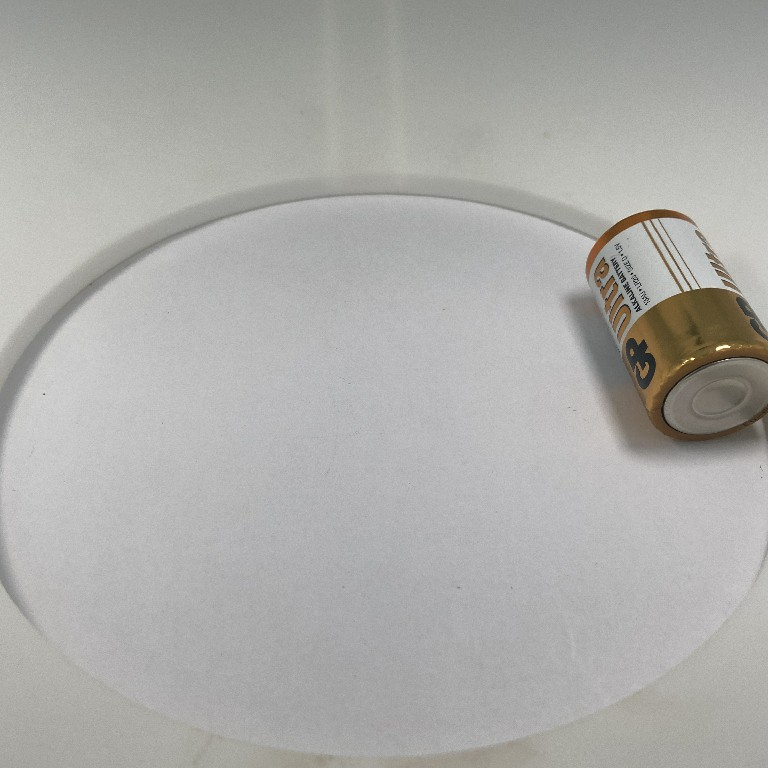charge: (582, 205, 768, 446)
